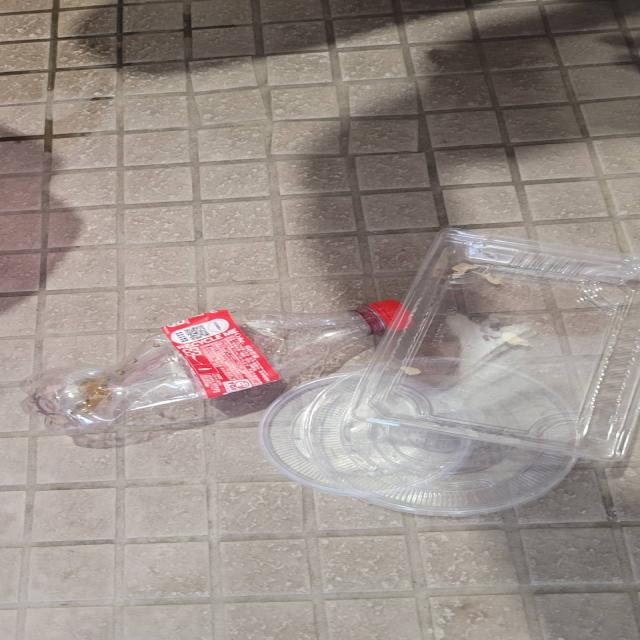PET bottle: (20, 297, 439, 428)
Plastic: (373, 215, 640, 466), (254, 374, 479, 492)
